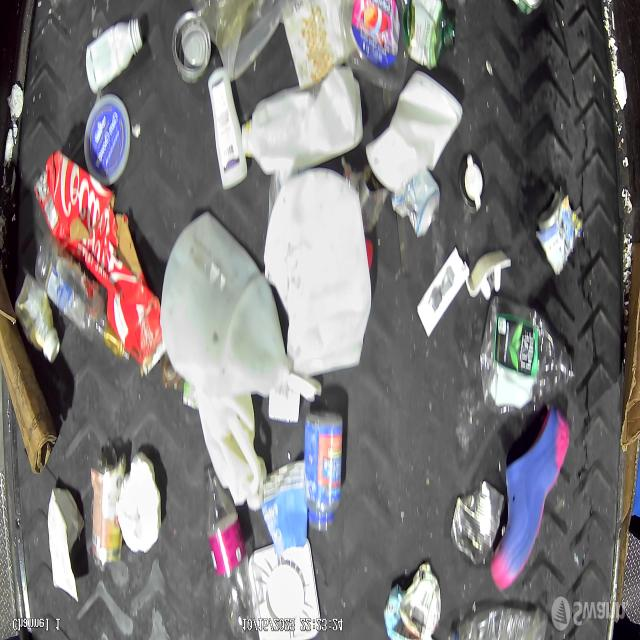can: (451, 478, 506, 563), (536, 192, 580, 276), (173, 4, 213, 84)
milk_jug: (158, 218, 290, 406), (264, 168, 372, 378), (242, 63, 362, 175), (197, 390, 265, 512)
plastic_bottle: (35, 243, 131, 366), (480, 292, 576, 411), (204, 462, 254, 637), (448, 603, 546, 640)
